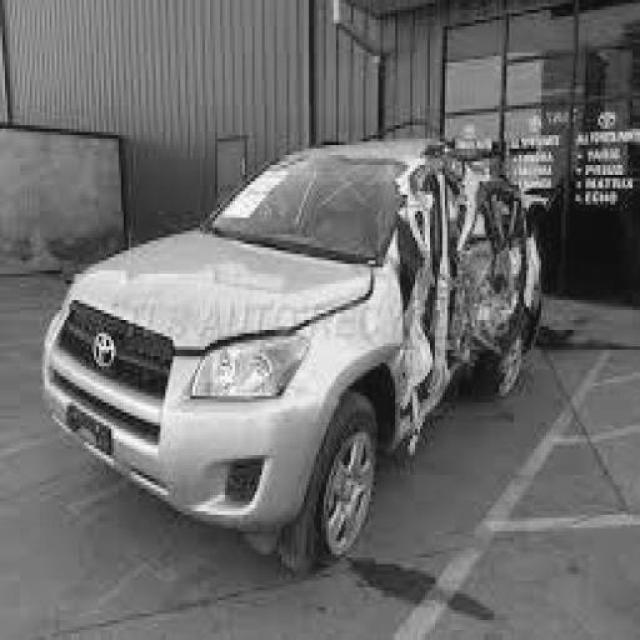car damage: (368, 158, 541, 451)
